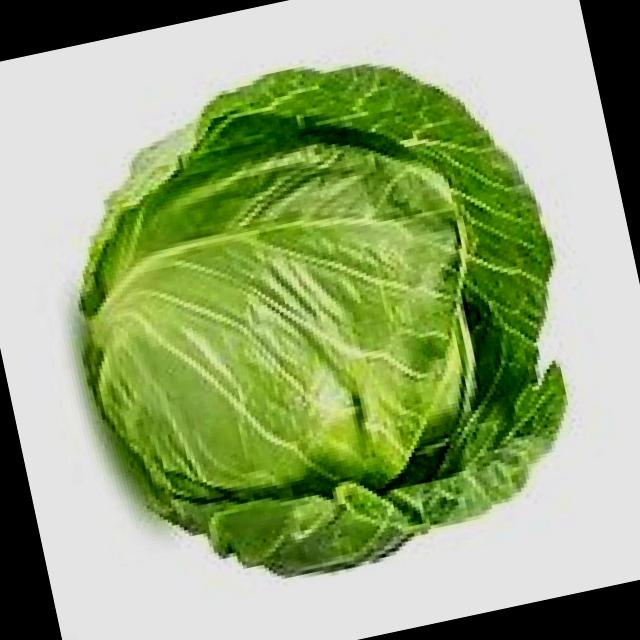cabbage: (38, 32, 610, 634)
